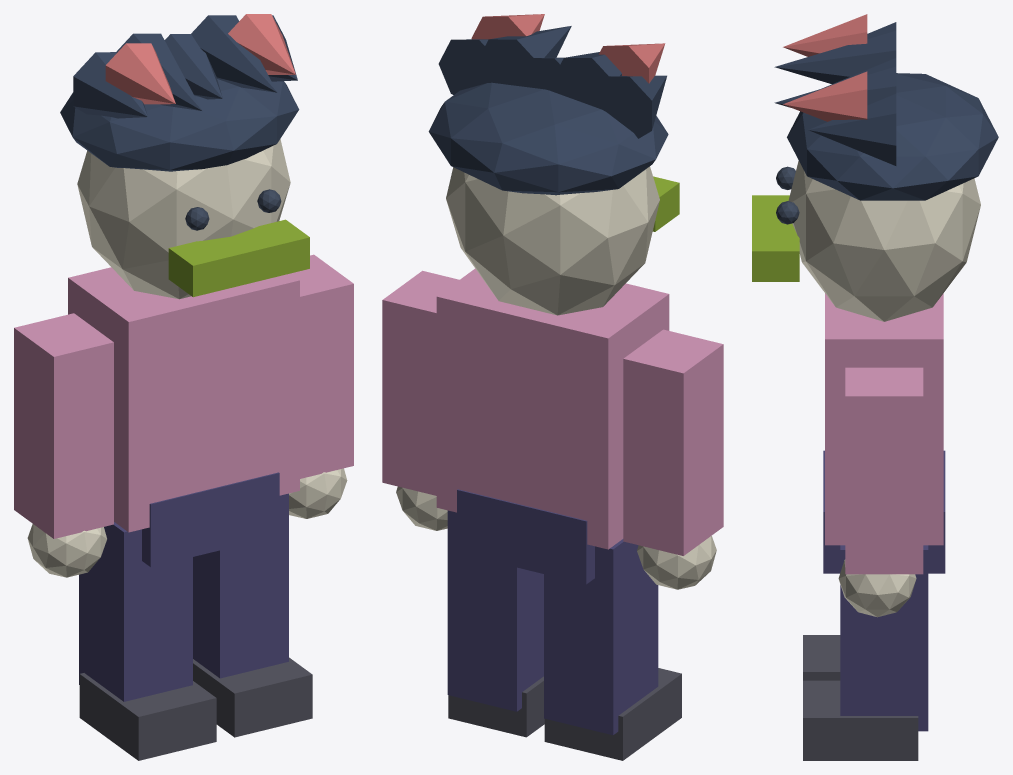
Rendered from nezuko.glb.
3 views of the same model, side by side, from view 1: azimuth 30°, elevation 25°; view 2: azimuth 150°, elevation 25°; view 3: azimuth 270°, elevation 25° (orthographic). The views are drawn at different scales.
Parts seen in each view (by area): view 1: part_000, part_002, part_010, part_004, part_013, part_008, part_006, part_001, part_005, part_021, part_009, part_017 (+7 smaller); view 2: part_000, part_010, part_002, part_013, part_004, part_008, part_006, part_001, part_005, part_017, part_014, part_009 (+8 smaller); view 3: part_010, part_006, part_013, part_000, part_008, part_009, part_021, part_018, part_015, part_007, part_020, part_005 (+4 smaller).
Boxes of the visible parts, <box> form: part_000: <box>68,267,299,532</box>; part_002: <box>14,313,113,538</box>; part_010: <box>77,139,290,299</box>; part_004: <box>79,522,192,701</box>; part_013: <box>60,79,299,171</box>; part_008: <box>193,493,288,678</box>; part_006: <box>291,254,353,478</box>; part_001: <box>142,472,279,567</box>; part_005: <box>79,673,216,760</box>; part_021: <box>168,219,309,297</box>; part_009: <box>193,657,312,737</box>; part_017: <box>191,15,277,92</box>; part_000: <box>436,268,669,549</box>; part_010: <box>446,166,659,315</box>; part_002: <box>623,329,723,555</box>; part_013: <box>428,82,668,195</box>; part_004: <box>544,539,658,735</box>; part_008: <box>447,510,543,711</box>; part_006: <box>382,270,459,495</box>; part_001: <box>457,489,594,584</box>; part_005: <box>544,668,681,760</box>; part_017: <box>476,26,571,88</box>; part_014: <box>589,75,666,138</box>; part_009: <box>448,676,544,737</box>; part_010: <box>788,161,980,321</box>; part_006: <box>845,367,923,574</box>; part_013: <box>787,73,998,200</box>; part_000: <box>825,293,943,545</box>; part_008: <box>840,545,928,731</box>; part_009: <box>803,680,918,760</box>; part_021: <box>752,195,799,281</box>; part_018: <box>808,94,896,165</box>; part_015: <box>774,31,896,83</box>; part_007: <box>838,559,916,617</box>; part_020: <box>783,71,867,121</box>; part_005: <box>803,635,840,680</box>.
Bounding box in the file's own units: 1.03 × 2.19 × 0.7278.
